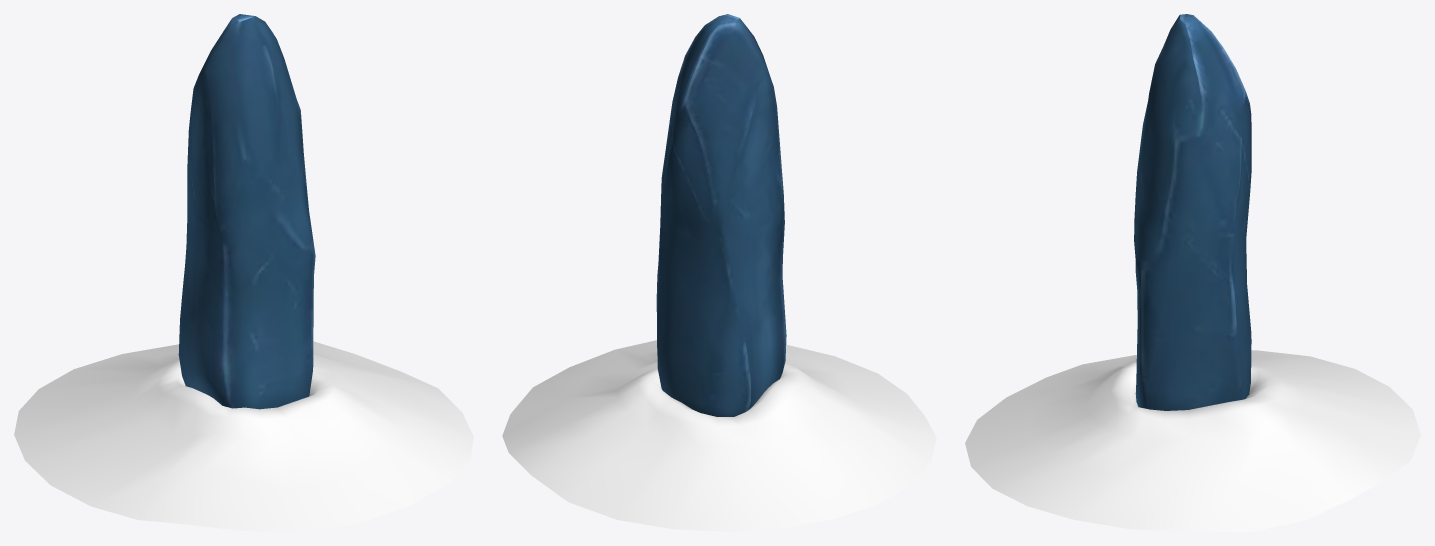
Rendered from crystal1.glb.
3 views of the same model, side by side, from view 1: azimuth 30°, elevation 25°; view 2: azimuth 150°, elevation 25°; view 3: azimuth 270°, elevation 25° (orthographic).
Visible parts, largest first — view 1: crystalbase, crystal1a_LOD0; view 2: crystalbase, crystal1a_LOD0; view 3: crystalbase, crystal1a_LOD0.
Part boxes in pixels (x1,y1,x2,y2): crystalbase: (14,341,473,531); crystal1a_LOD0: (178,14,315,409); crystalbase: (502,340,936,531); crystal1a_LOD0: (656,14,786,416); crystalbase: (965,350,1420,531); crystal1a_LOD0: (1134,14,1251,410).
Size of the model in its own units: 2.81 by 2.98 by 2.9.
Materials: 2 (1 with a texture image).
